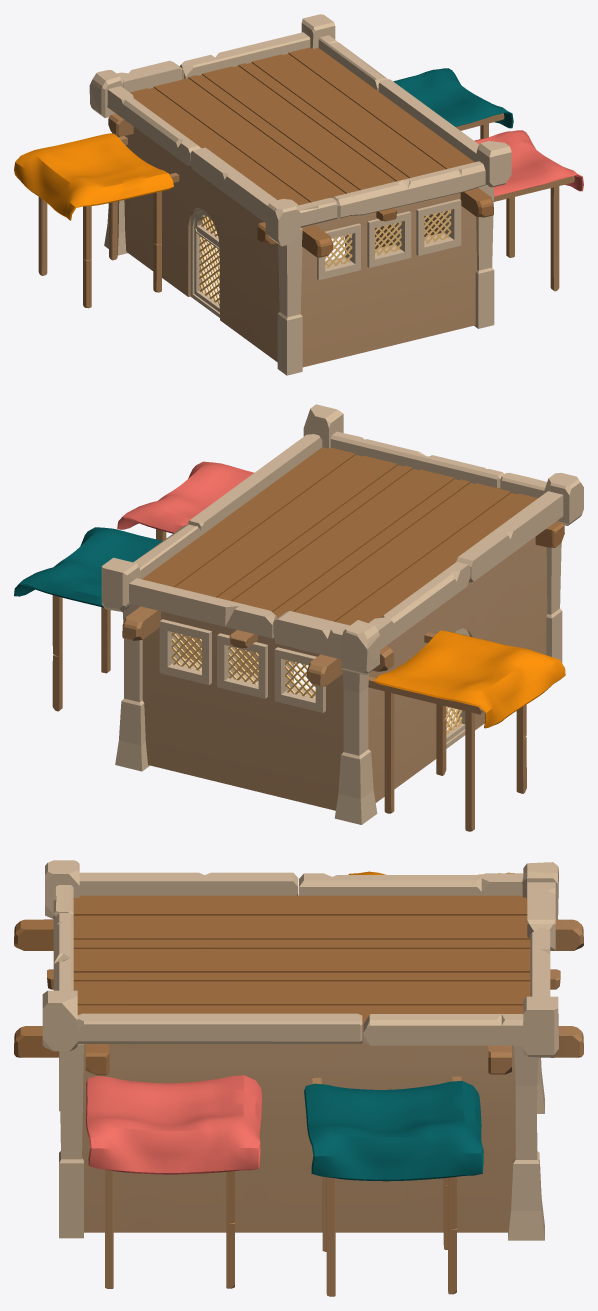
Rendered from Building03.fbx.
3 views of the same model, one above another, from view 1: azimuth 30°, elevation 25°; view 2: azimuth 150°, elevation 25°; view 3: azimuth 270°, elevation 25° (orthographic). The views are drawn at different scales.
Parts seen in each view (by area): view 1: Building03; view 2: Building03; view 3: Building03.
Part boxes in pixels (x1,y1,x2,y2): Building03: (14, 14, 583, 375); Building03: (14, 404, 583, 831); Building03: (14, 860, 583, 1296).
Size of the model in its own units: 8.1 by 6.8 by 3.2.
